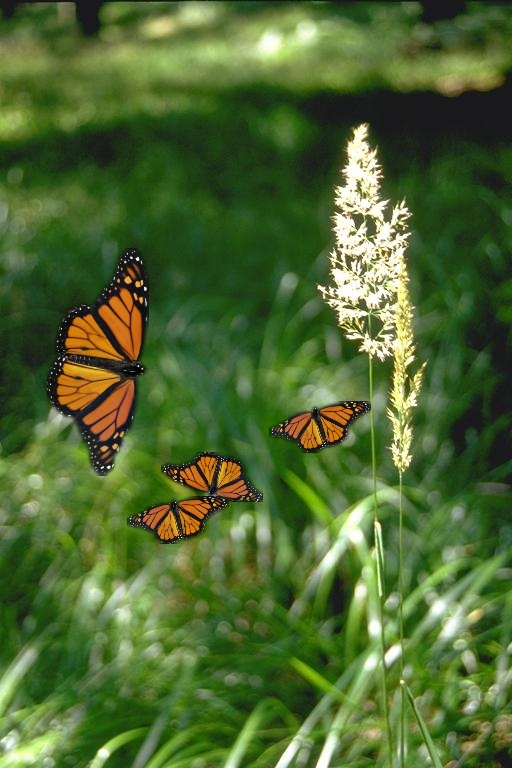danaus_plexippus: (47, 248, 149, 476), (269, 401, 371, 453), (161, 452, 263, 502), (127, 496, 229, 544)
